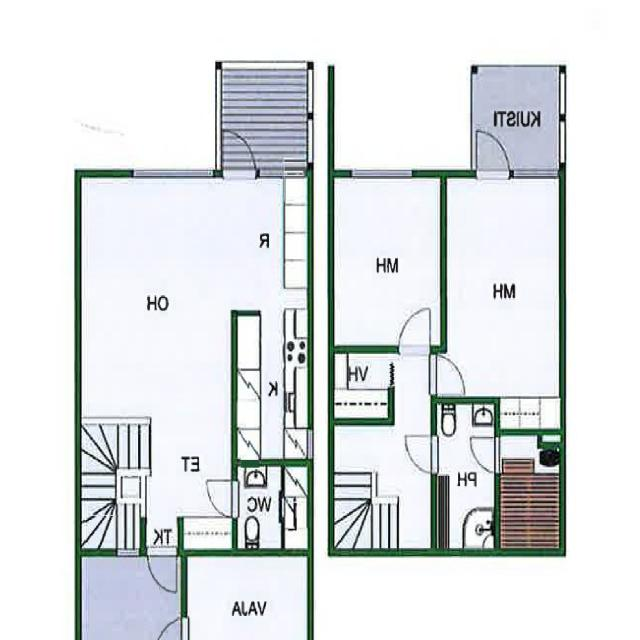door: (476, 127, 509, 178), (223, 128, 256, 177), (400, 306, 430, 354), (402, 435, 437, 473), (431, 356, 466, 394), (148, 550, 177, 594), (204, 480, 237, 517), (468, 438, 500, 472), (152, 618, 188, 640)
